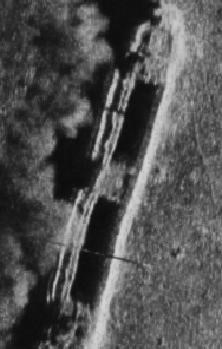ship: (50, 3, 181, 346)
